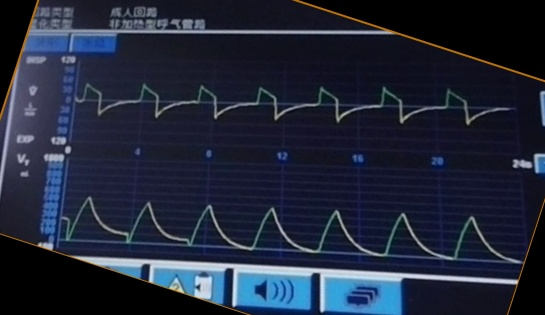Flow: (80, 69, 498, 143)
Leakage Volume: (63, 183, 507, 263)
